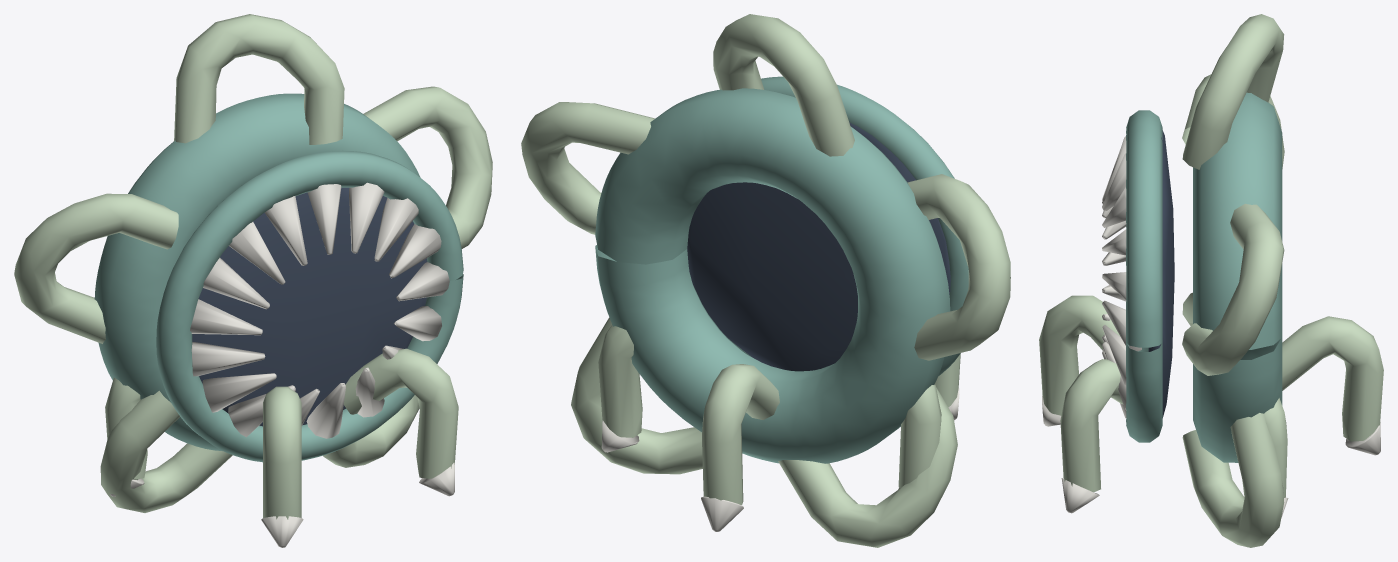
The model's file is bio_spiral_maw_09_far.glb.
The picture shows the model from 3 angles, left to right: view 1: azimuth 30°, elevation 25°; view 2: azimuth 150°, elevation 25°; view 3: azimuth 270°, elevation 25°; orthographic projection. The views are drawn at different scales.
Parts seen in each view (by area): view 1: Rear muscular torus, Recessed mouth cavity, Raised oral lip, Inward tooth, Coiling oral limb.001, Coiling oral limb.002, Coiling oral limb, Coiling oral limb.003, Crooked support.003, Crooked support.002, Coiling oral limb.004, Crooked support.001 (+2 smaller); view 2: Rear muscular torus, Recessed mouth cavity, Coiling oral limb.002, Coiling oral limb.001, Coiling oral limb.003, Coiling oral limb, Crooked support, Coiling oral limb.004, Raised oral lip, Crooked support.004, Crooked support.001, Contact spur (+2 smaller); view 3: Rear muscular torus, Raised oral lip, Coiling oral limb.004, Coiling oral limb, Coiling oral limb.001, Crooked support, Crooked support.003, Crooked support.002, Inward tooth, Recessed mouth cavity, Crooked support.004, Contact spur.003 (+2 smaller).
Boxes of the visible parts, x1,y1,x2,y2 form: Rear muscular torus: (94,93,420,451); Recessed mouth cavity: (192,187,427,426); Raised oral lip: (156,150,463,462); Inward tooth: (190,182,449,438); Coiling oral limb.001: (174,14,344,144); Coiling oral limb.002: (14,193,178,343); Coiling oral limb: (363,86,492,248); Coiling oral limb.003: (100,390,232,512); Crooked support.003: (344,348,458,478); Crooked support.002: (263,386,301,519); Coiling oral limb.004: (323,395,419,467); Crooked support.001: (105,378,147,479); Rear muscular torus: (595,88,950,463); Recessed mouth cavity: (687,122,950,371); Coiling oral limb.002: (907,174,1010,360); Coiling oral limb.001: (713,14,854,156); Coiling oral limb.003: (778,387,957,547); Coiling oral limb: (521,102,654,234); Crooked support: (702,364,779,504); Coiling oral limb.004: (571,317,702,474); Raised oral lip: (727,76,968,375); Crooked support.004: (598,325,642,437); Crooked support.001: (898,384,941,487); Contact spur: (701,496,743,531); Rear muscular torus: (1193,92,1282,462); Raised oral lip: (1126,110,1162,442); Coiling oral limb.004: (1182,413,1284,547); Coiling oral limb: (1182,203,1284,375); Coiling oral limb.001: (1182,14,1284,169); Crooked support: (1282,316,1383,441); Crooked support.003: (1060,359,1123,491); Crooked support.002: (1039,295,1120,415); Inward tooth: (1102,136,1141,418); Recessed mouth cavity: (1148,130,1174,417); Crooked support.004: (1264,398,1287,497); Contact spur.003: (1061,478,1099,513).
Size of the model in its own units: 2.63 by 2.56 by 1.7.
